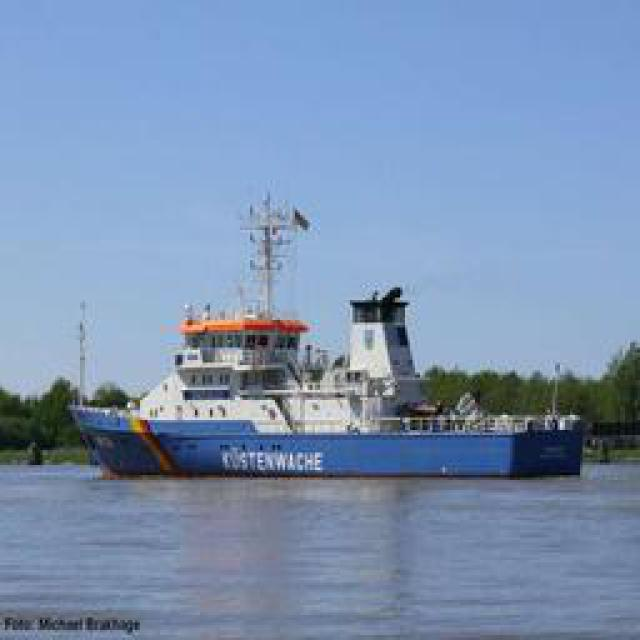Ship: (64, 206, 597, 484)
